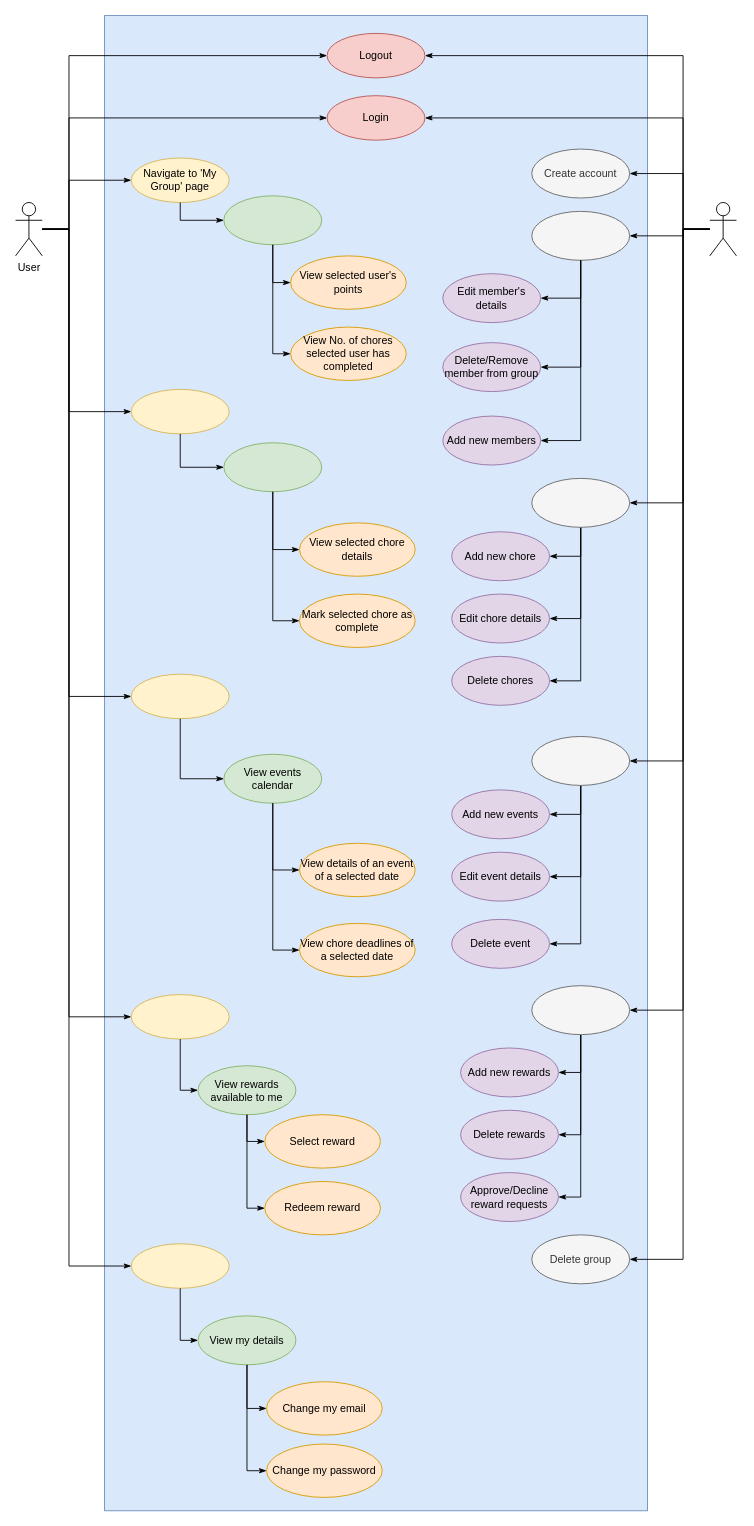
Some shapes in this 754 by 1526 pixel diagram are drawn without their labels. Here are the shapes that lost their labels. From the top down, the box of each, then its label:
(223, 195, 322, 245): View members of group
(531, 210, 630, 260): View group members
(709, 202, 736, 256): Admin
(130, 388, 229, 434): Navigate to 'Chores' page
(223, 442, 322, 492): View my chores
(531, 477, 630, 527): View chores
(130, 673, 229, 719): Navigate to 'Calendar' page
(531, 736, 630, 785): View events
(130, 994, 229, 1039): Navigate to 'Rewards' page
(531, 985, 630, 1035): View rewards
(130, 1243, 229, 1288): Navigate to 'My Account' page
